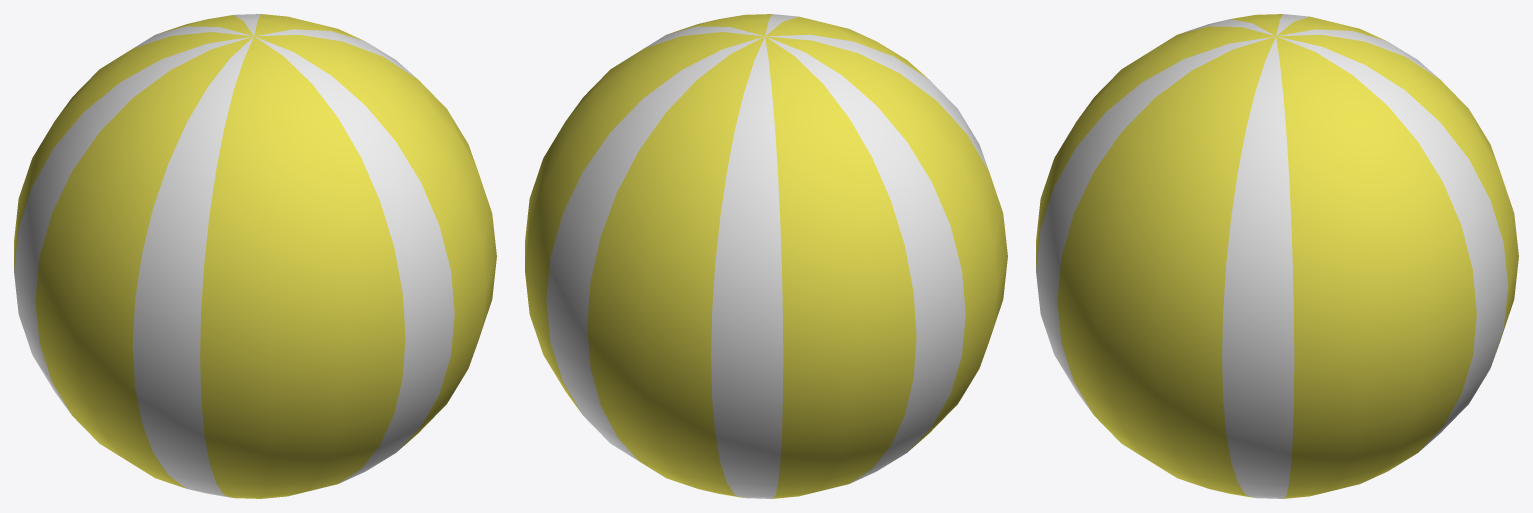
File: Weapon_PelotaDeTenis.fbx
The picture shows the model from 3 angles, left to right: view 1: azimuth 30°, elevation 25°; view 2: azimuth 150°, elevation 25°; view 3: azimuth 270°, elevation 25°; orthographic projection.
Visible parts, largest first — view 1: Pelota; view 2: Pelota; view 3: Pelota.
Boxes of the visible parts, x1,y1,x2,y2 form: Pelota: [14, 14, 496, 498]; Pelota: [525, 14, 1007, 498]; Pelota: [1036, 14, 1518, 498].
Bounding box in the file's own units: 29.35 × 29.43 × 29.27.
